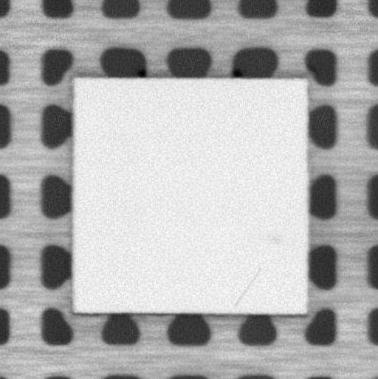DIE_CRACK: (234, 266, 263, 308)
